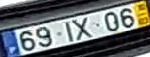0: (103, 10, 120, 32)
6: (18, 29, 35, 52), (118, 7, 135, 29)
9: (34, 25, 53, 48)
I: (63, 21, 74, 42)
X: (70, 15, 94, 42)
